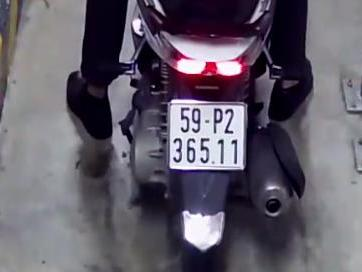num_plate: (167, 98, 247, 170)
